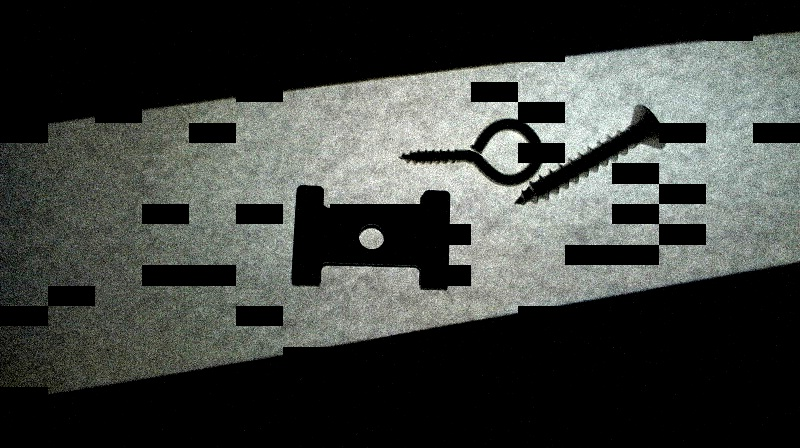O001: (395, 114, 547, 188)
O002: (287, 181, 455, 292)
S001: (509, 100, 669, 207)
